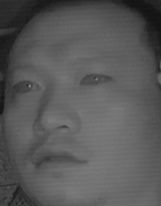eye: (79, 68, 113, 91), (11, 75, 43, 97)
mouth: (28, 141, 88, 176)
